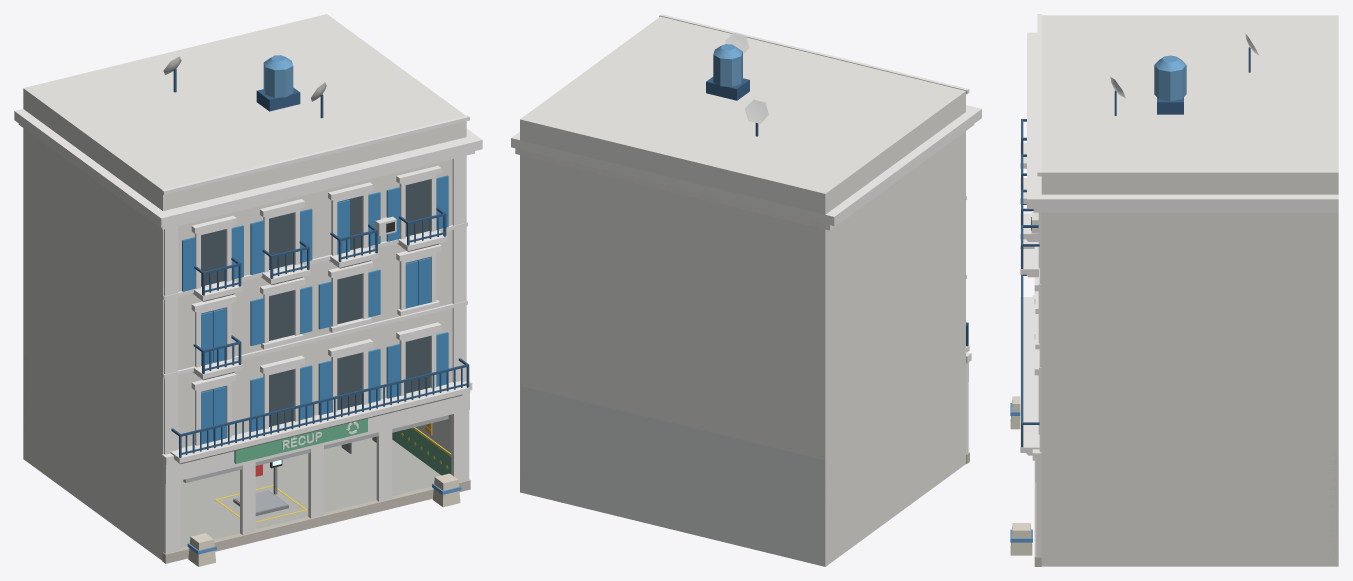
File: shop_recycling.fbx
3 views of the same model, side by side, from view 1: azimuth 30°, elevation 25°; view 2: azimuth 150°, elevation 25°; view 3: azimuth 270°, elevation 25° (orthographic). The views are drawn at different scales.
Parts seen in each view (by area): view 1: shop_recycling; view 2: shop_recycling; view 3: shop_recycling.
Boxes of the visible parts, x1,y1,x2,y2 form: shop_recycling: [14, 14, 482, 566]; shop_recycling: [511, 14, 981, 566]; shop_recycling: [1010, 14, 1338, 566].
Bounding box in the file's own units: 14.6 × 18.05 × 12.17.
